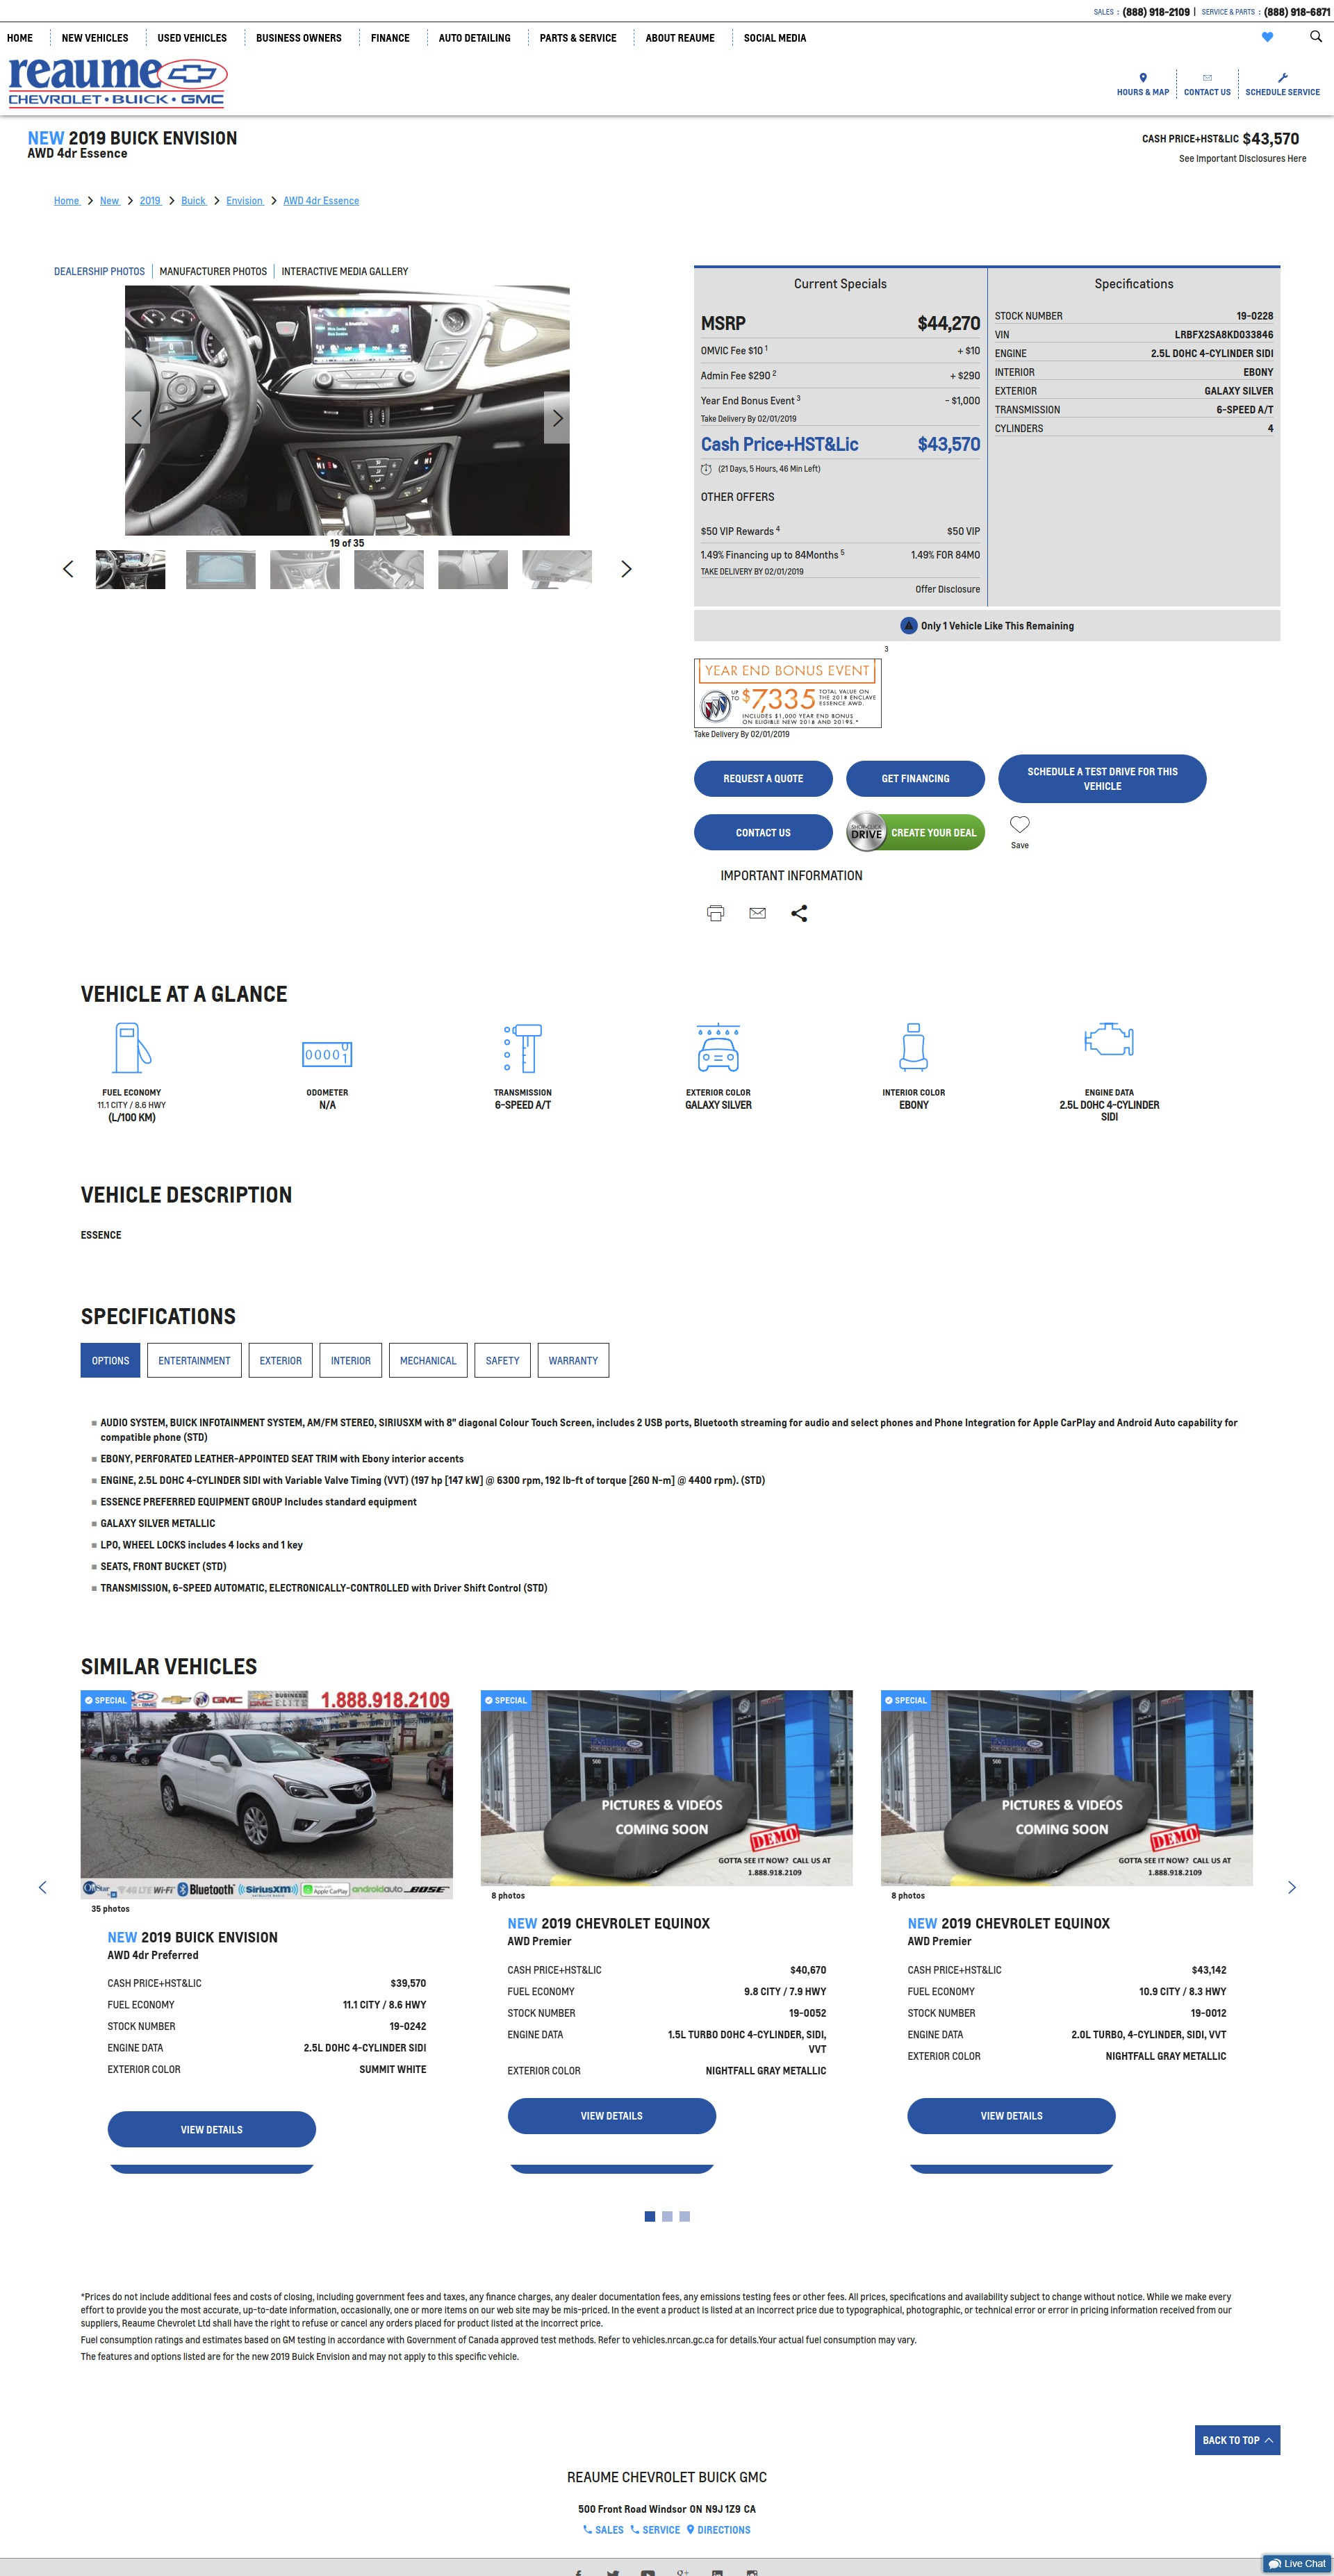car: (621, 559, 633, 578)
